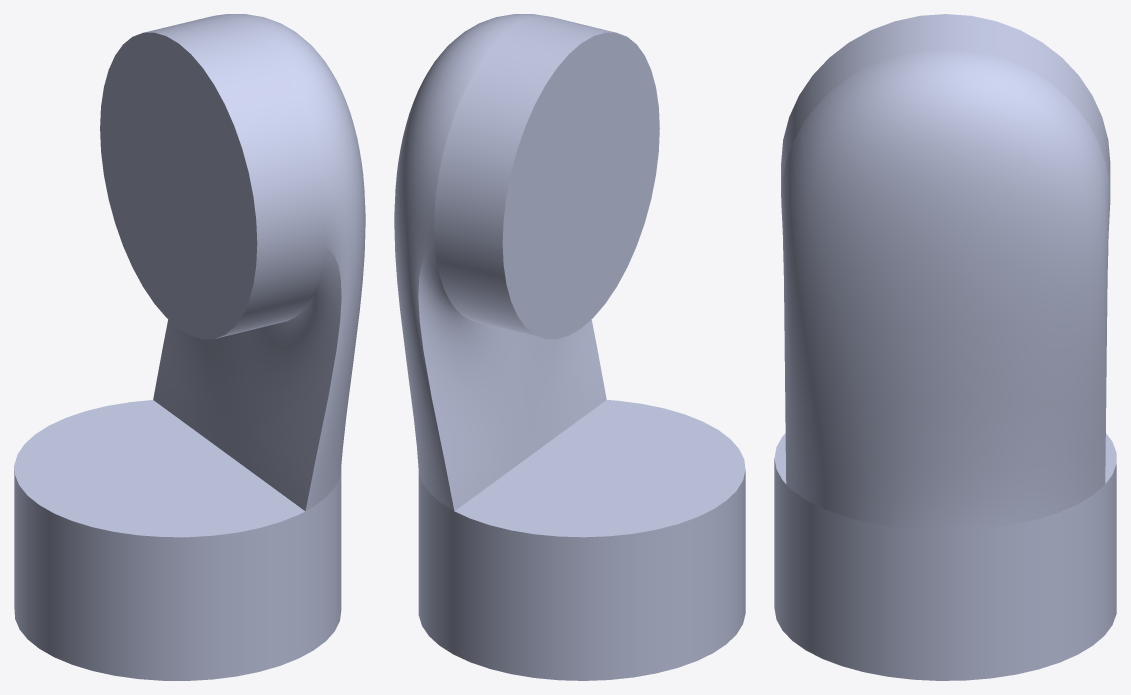
The picture shows the model from 3 angles, left to right: view 1: azimuth 30°, elevation 25°; view 2: azimuth 150°, elevation 25°; view 3: azimuth 270°, elevation 25°; orthographic projection. The views are drawn at different scales.
Parts seen in each view (by area): view 1: Actor0; view 2: Actor0; view 3: Actor0.
Part boxes in pixels (bbox=[...]): Actor0: bbox=[14, 14, 365, 680]; Actor0: bbox=[394, 14, 745, 680]; Actor0: bbox=[774, 14, 1116, 680].
Bounding box in the file's own units: 0.0867 × 0.1582 × 0.0824.
